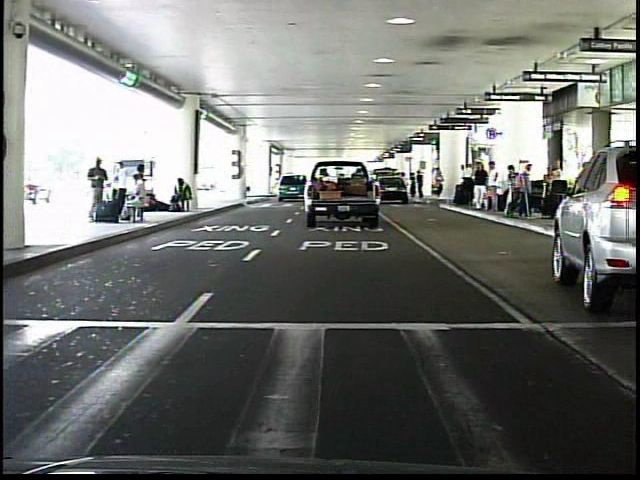person: (90, 156, 114, 228), (469, 159, 490, 217), (486, 160, 503, 216), (454, 161, 473, 210), (434, 166, 450, 206), (407, 170, 422, 202), (417, 170, 428, 203)
